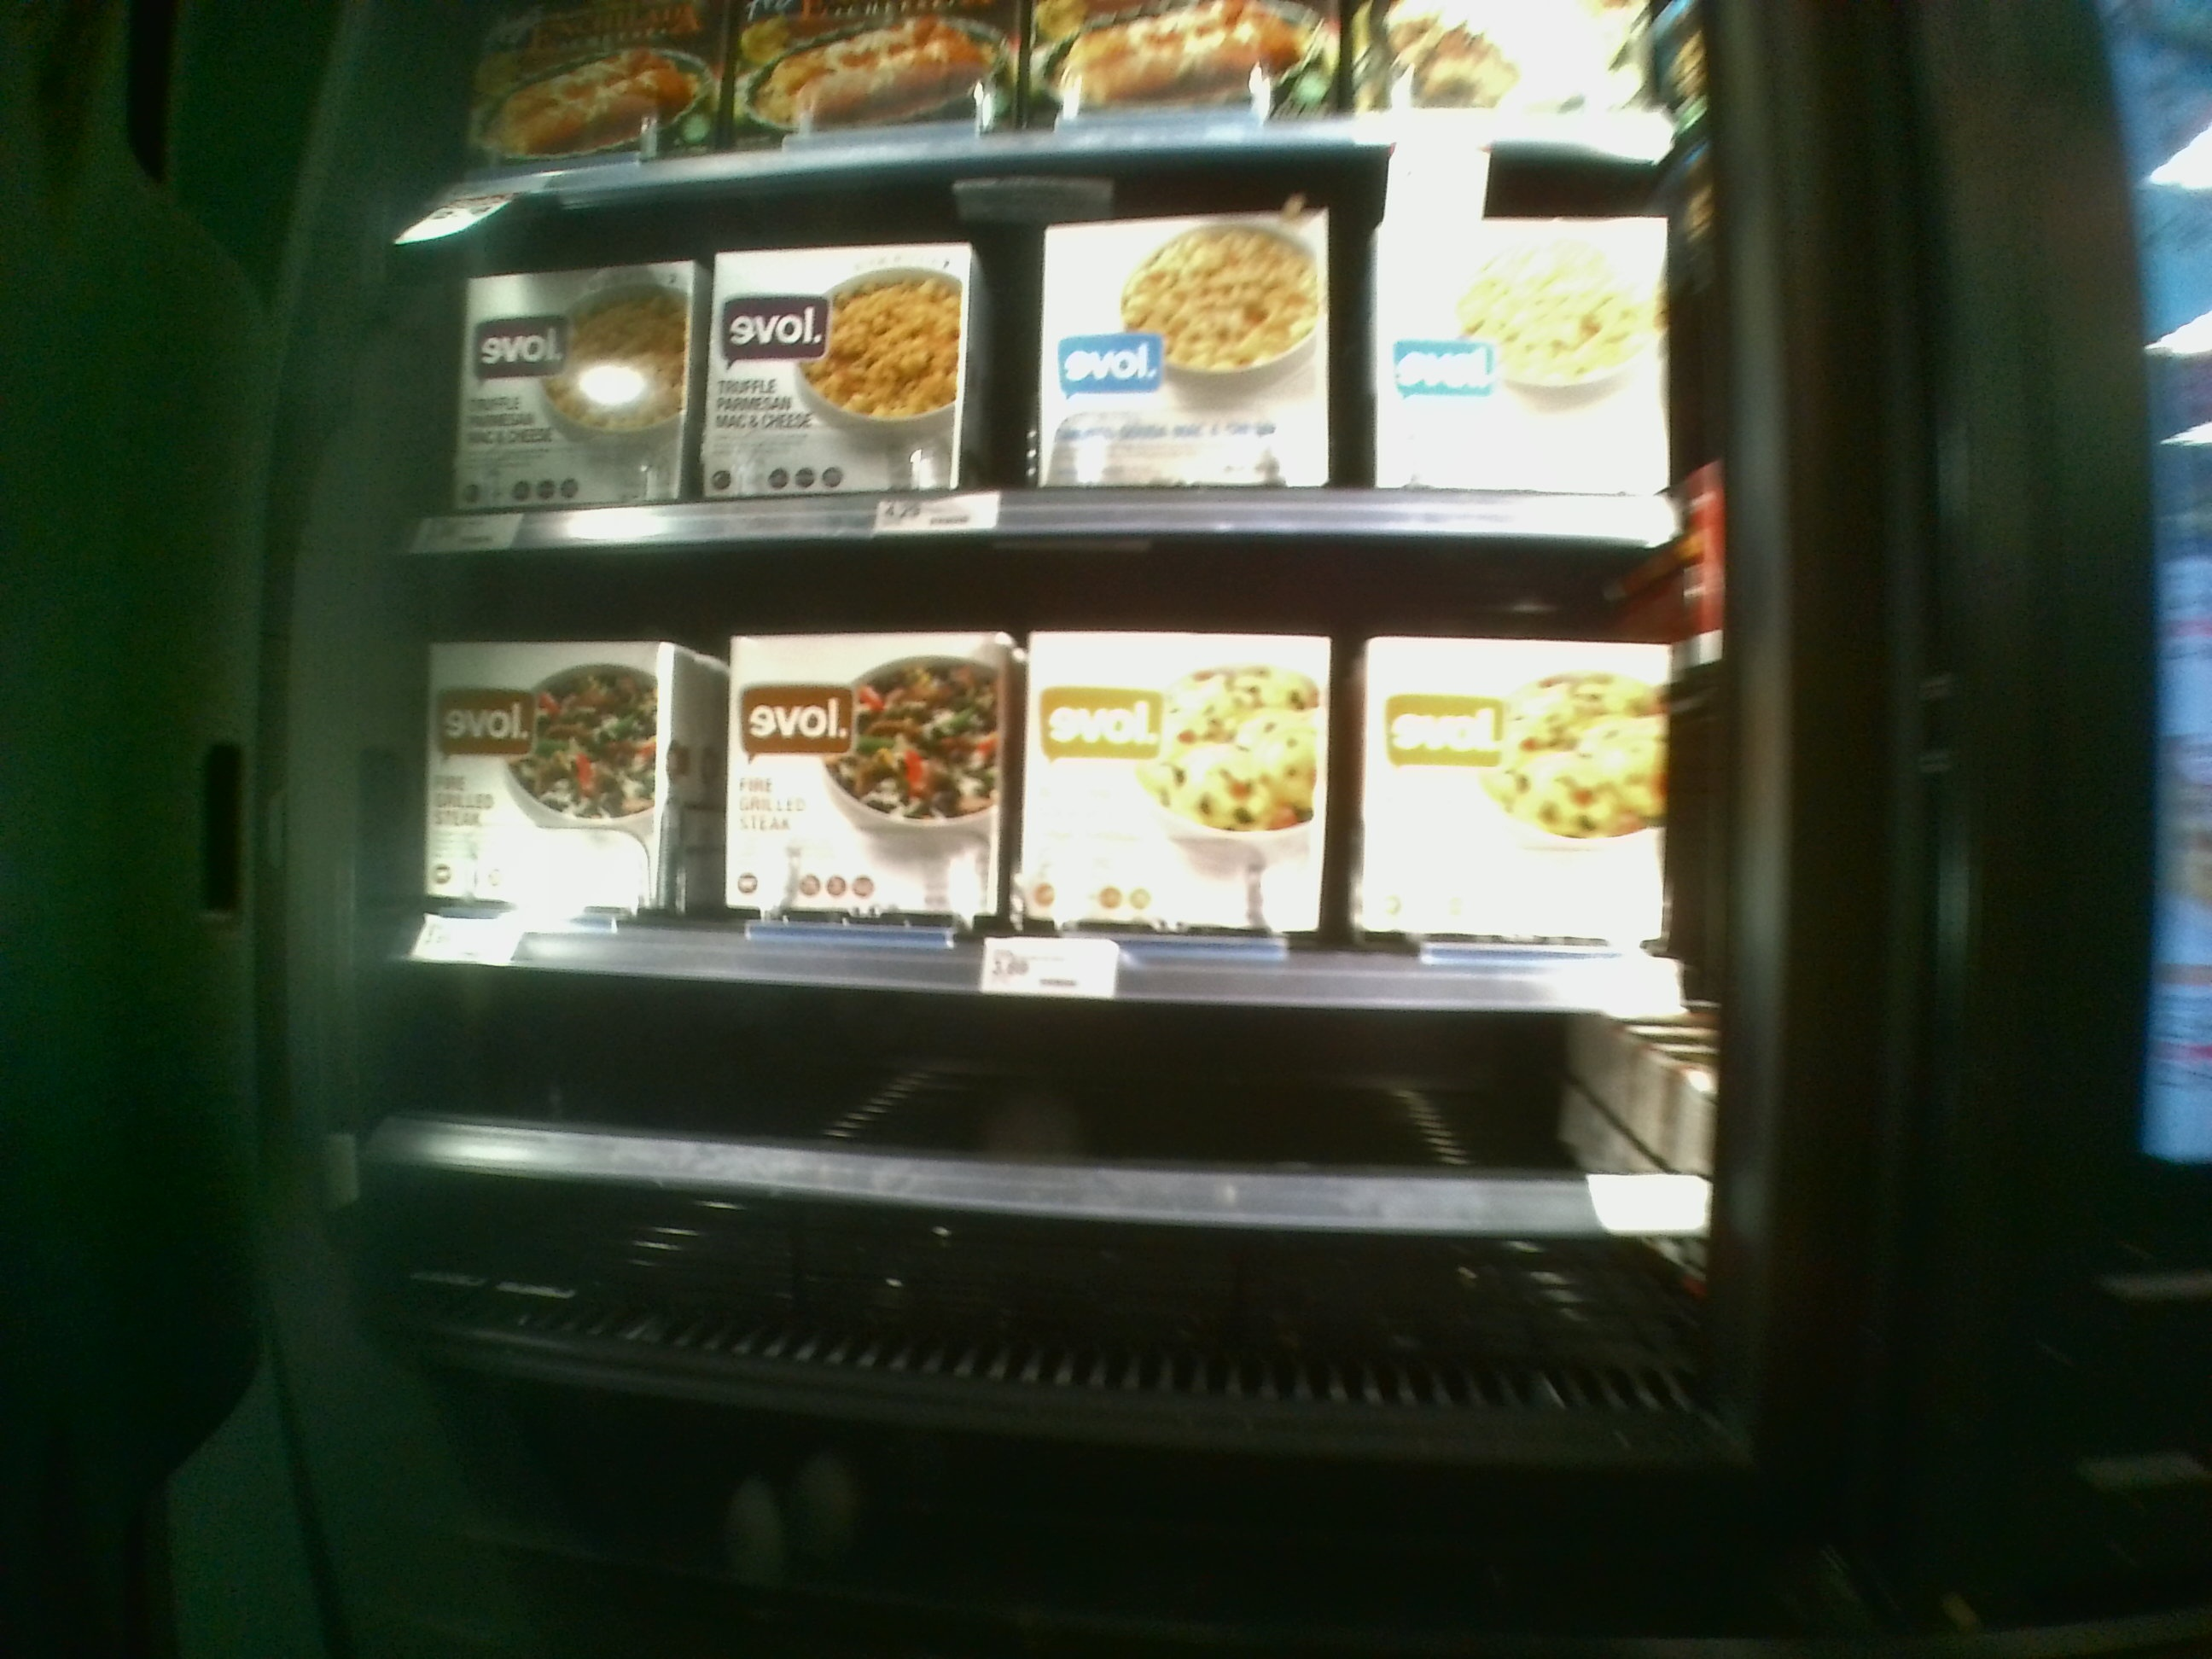shelf: (404, 540, 1705, 999), (397, 992, 1702, 1399), (413, 178, 1703, 540)
